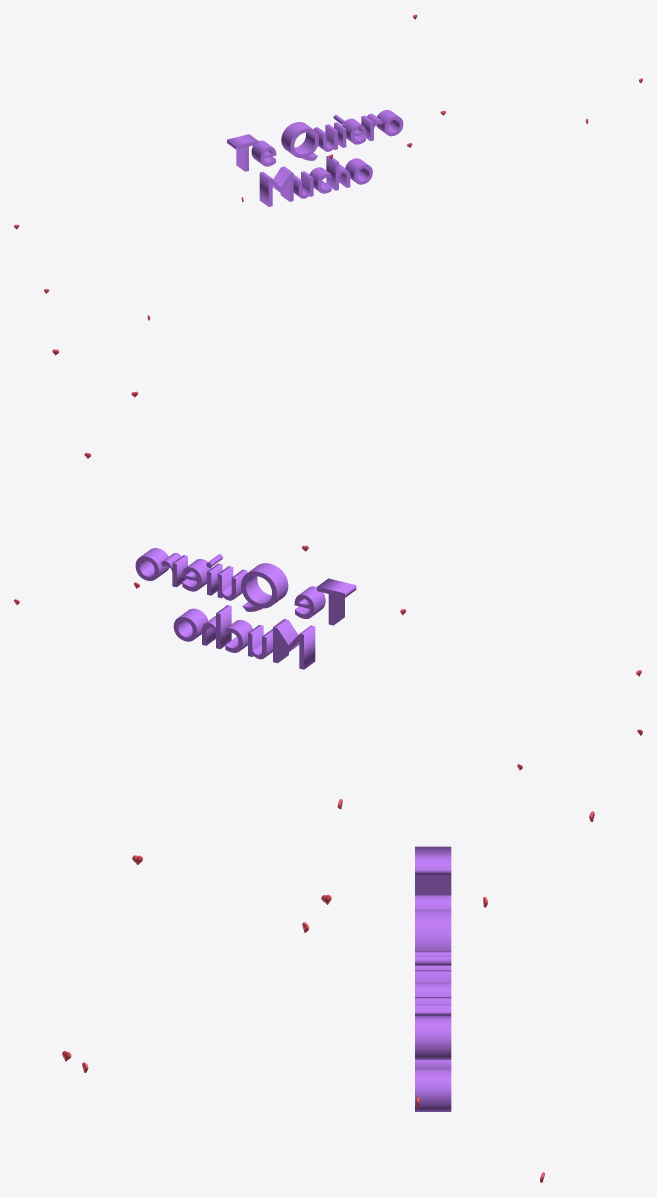
Rendered from ar_hearts_te_quiero_mambi.glb.
The picture shows the model from 3 angles, top to bottom: view 1: azimuth 30°, elevation 25°; view 2: azimuth 150°, elevation 25°; view 3: azimuth 270°, elevation 25°; orthographic projection. The views are drawn at different scales.
Parts seen in each view (by area): view 1: Text; view 2: Text; view 3: Text.
Part boxes in pixels (x1,y1,x2,y2): Text: [227, 110, 403, 206]; Text: [135, 548, 356, 669]; Text: [415, 846, 451, 1111].
Size of the model in its own units: 2.73 by 0.7614 by 1.18.
